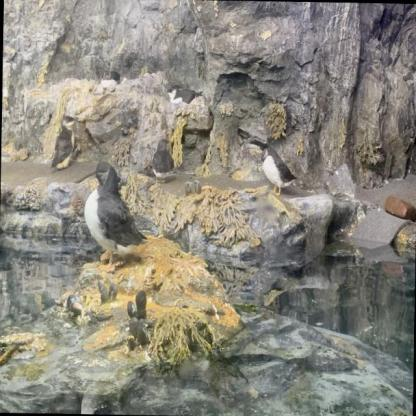puffin: (81, 160, 150, 272), (259, 146, 299, 197), (49, 114, 77, 170), (150, 138, 176, 184), (166, 84, 202, 106), (63, 290, 86, 320), (100, 70, 121, 88)
